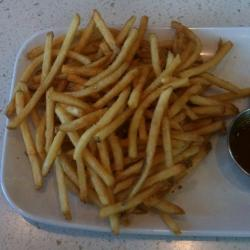fries: (38, 38, 194, 199)
